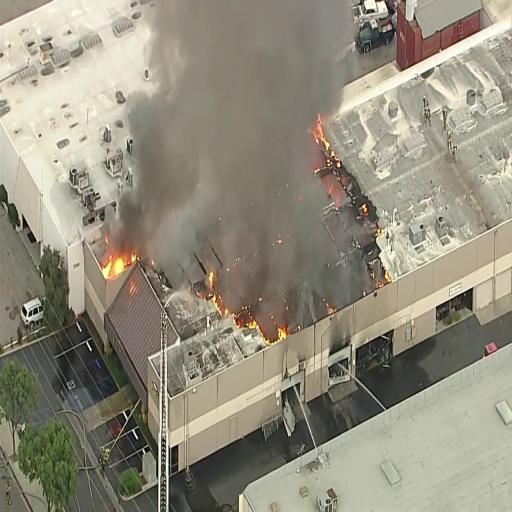fire: (98, 255, 124, 295)
smoke: (187, 0, 289, 285)
